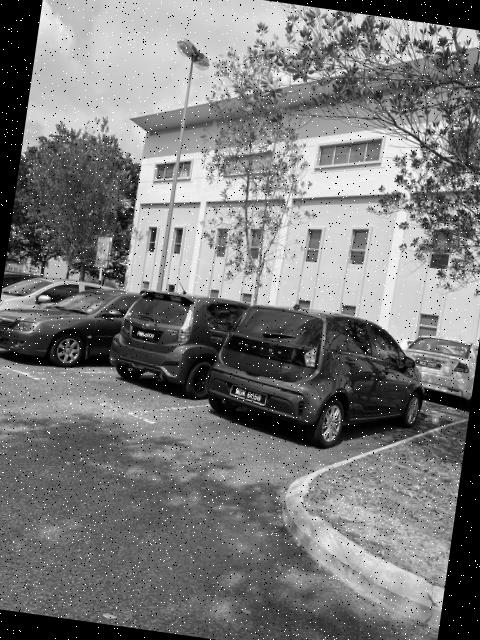License_Plate: (224, 378, 275, 412), (131, 323, 165, 345)
car: (202, 299, 438, 463), (109, 285, 266, 407), (1, 273, 150, 375), (393, 327, 480, 407)
